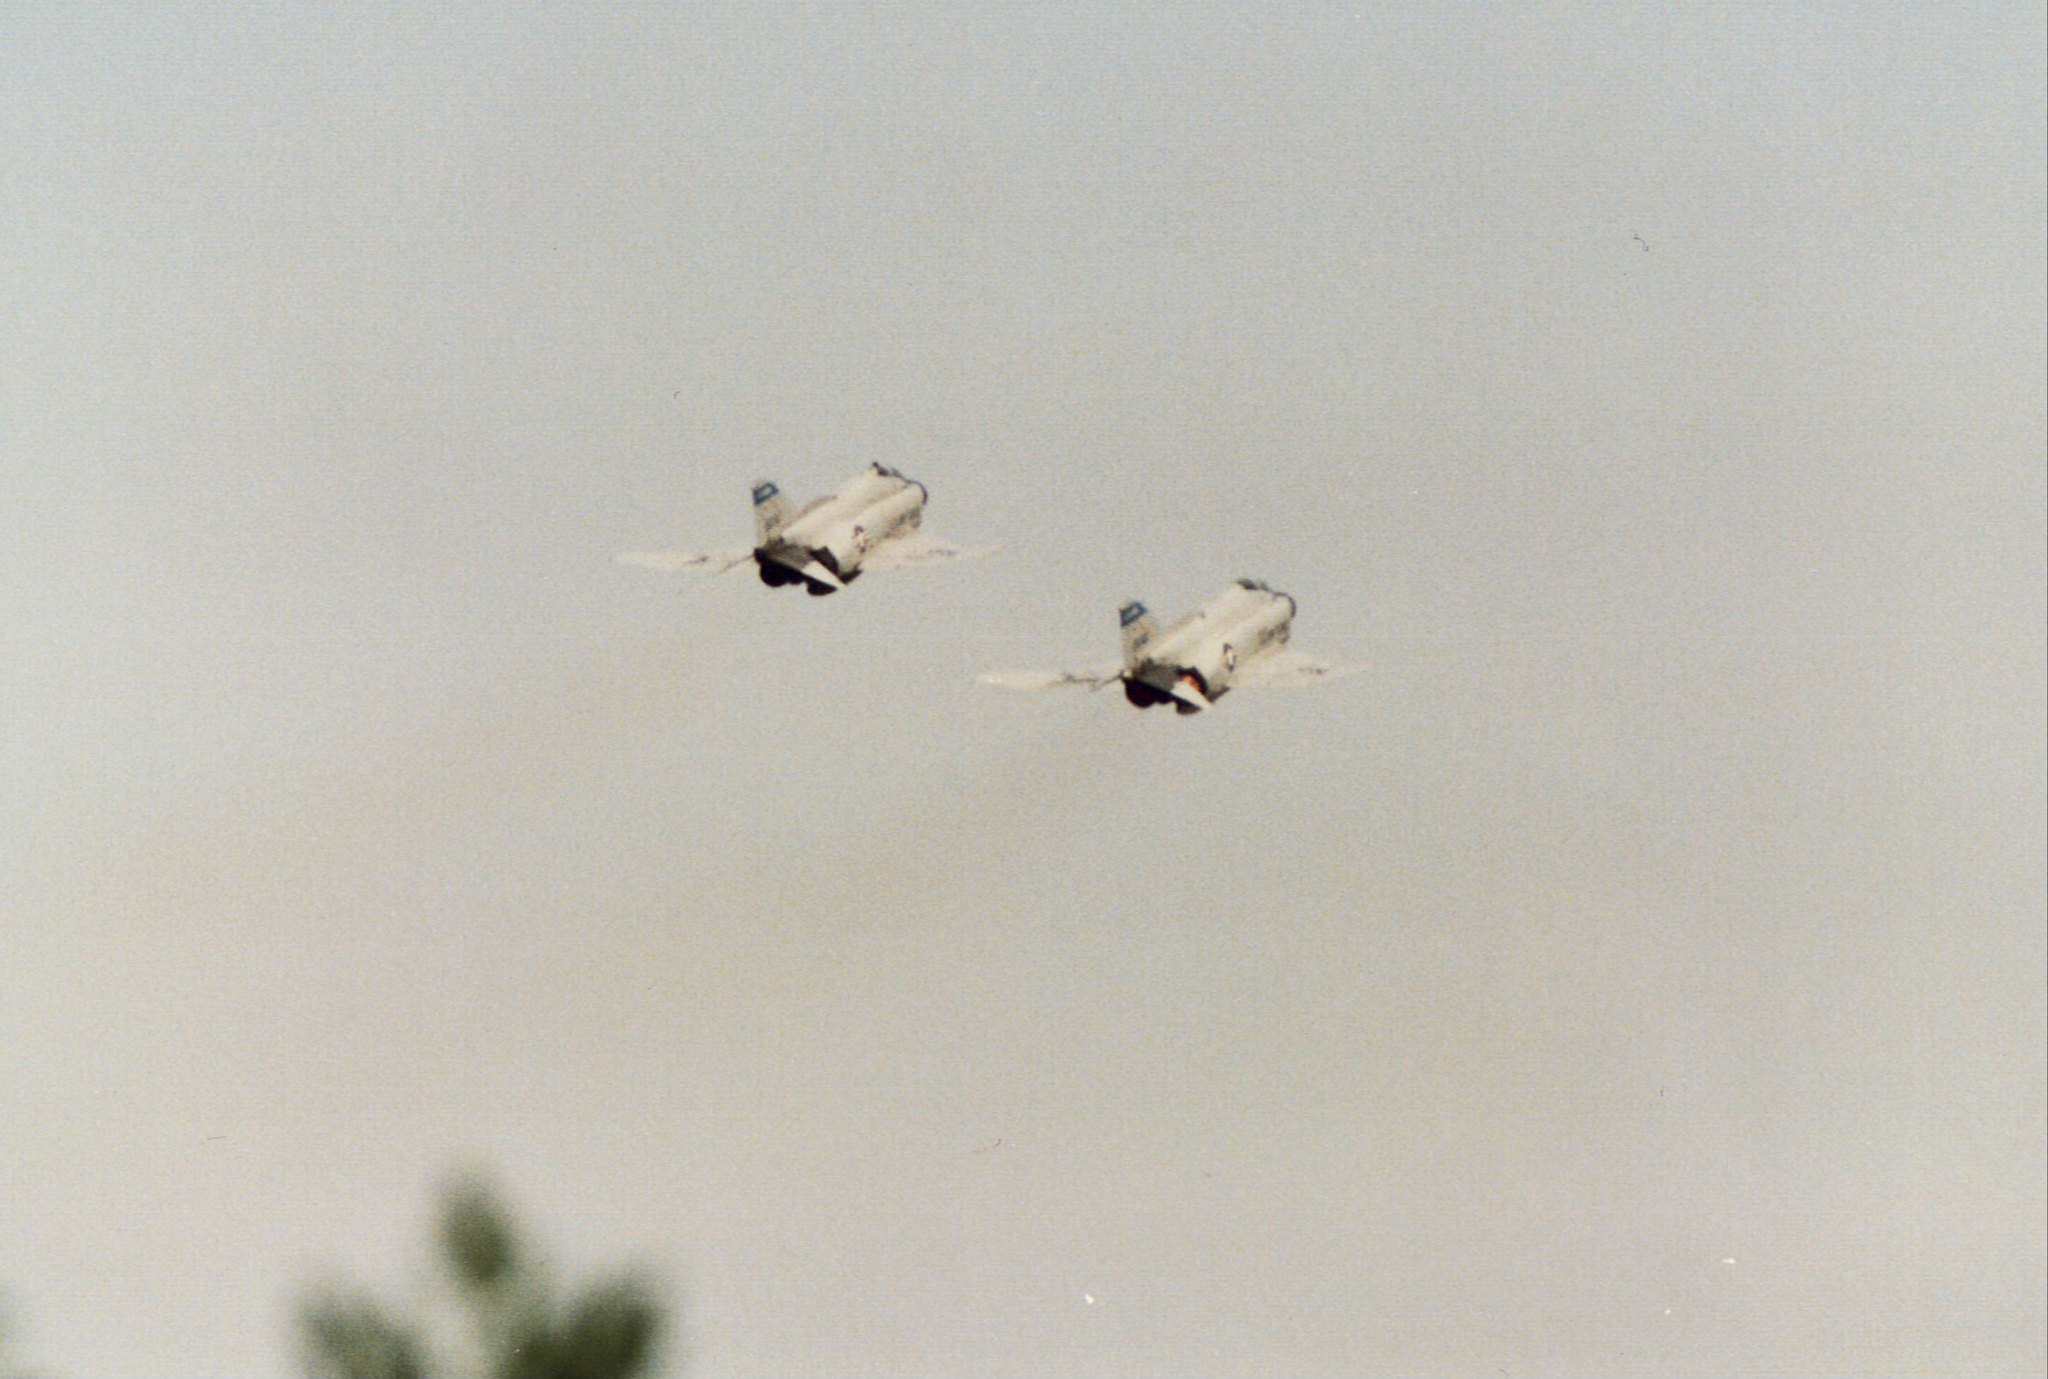F4: (606, 457, 1034, 599), (971, 574, 1379, 716)
